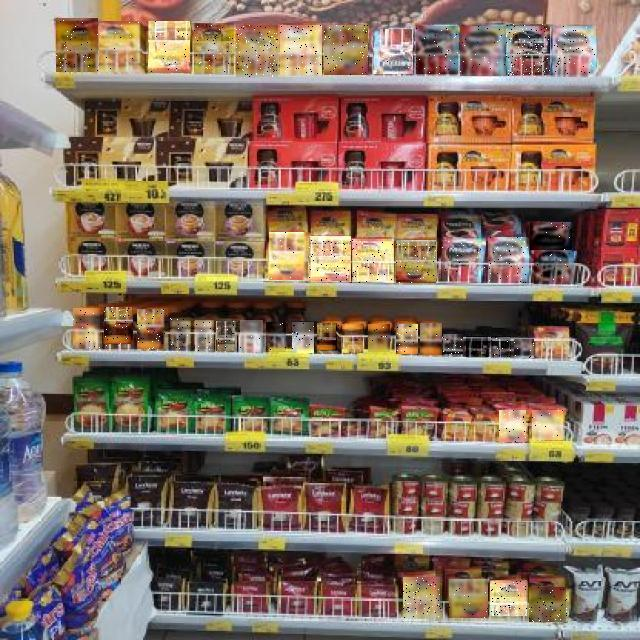Coffee: (460, 26, 506, 76), (100, 22, 144, 74), (507, 24, 551, 76), (56, 19, 98, 73), (324, 25, 368, 75), (553, 26, 596, 77), (148, 21, 190, 73), (236, 25, 278, 77), (280, 25, 322, 75), (194, 23, 234, 75), (417, 26, 459, 74), (309, 236, 351, 282), (488, 237, 529, 283), (442, 240, 486, 282), (352, 239, 394, 283), (270, 232, 308, 280), (373, 29, 413, 74), (396, 240, 436, 283), (404, 577, 442, 618), (449, 579, 488, 618), (534, 250, 574, 284), (490, 581, 527, 617), (530, 587, 568, 622), (138, 309, 168, 349), (530, 222, 572, 250), (104, 308, 133, 348), (74, 308, 102, 349), (532, 411, 563, 441), (499, 410, 526, 442), (240, 320, 263, 352), (420, 323, 442, 355), (292, 322, 314, 353), (318, 324, 340, 354), (396, 324, 418, 354), (170, 318, 190, 350), (342, 324, 364, 353), (368, 325, 390, 353), (266, 322, 286, 352), (195, 320, 214, 351), (216, 321, 235, 351), (466, 336, 488, 358), (492, 336, 514, 358), (443, 335, 463, 355), (514, 339, 534, 358)
